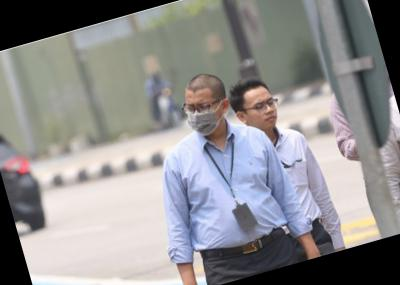with_mask: (183, 95, 228, 141)
without_mask: (243, 94, 283, 135)
